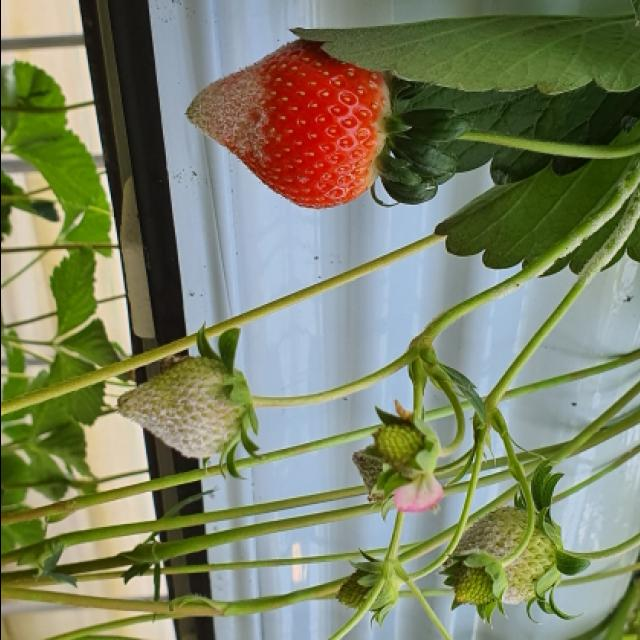Powdery Mildew Fruit: (186, 36, 297, 167), (119, 356, 246, 456), (447, 506, 555, 602)
